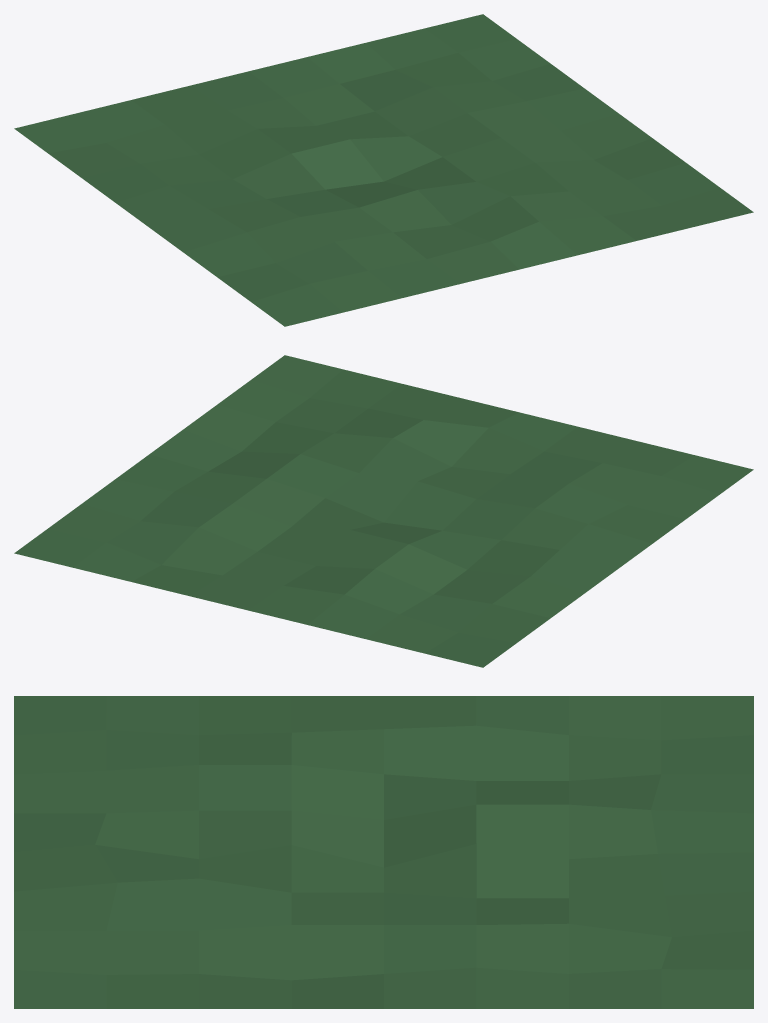
The model's file is Terrain_15_Light_Green.fbx.
3 views of the same model, one above another, from view 1: azimuth 30°, elevation 25°; view 2: azimuth 150°, elevation 25°; view 3: azimuth 270°, elevation 25° (orthographic). The views are drawn at different scales.
Visible parts, largest first — view 1: Terrain_15_Light_Green; view 2: Terrain_15_Light_Green; view 3: Terrain_15_Light_Green.
Part boxes in pixels (x1,y1,x2,y2): Terrain_15_Light_Green: (14, 14, 753, 326); Terrain_15_Light_Green: (14, 355, 753, 667); Terrain_15_Light_Green: (14, 696, 753, 1008).
Bounding box in the file's own units: 6000 × 252 × 6000.
